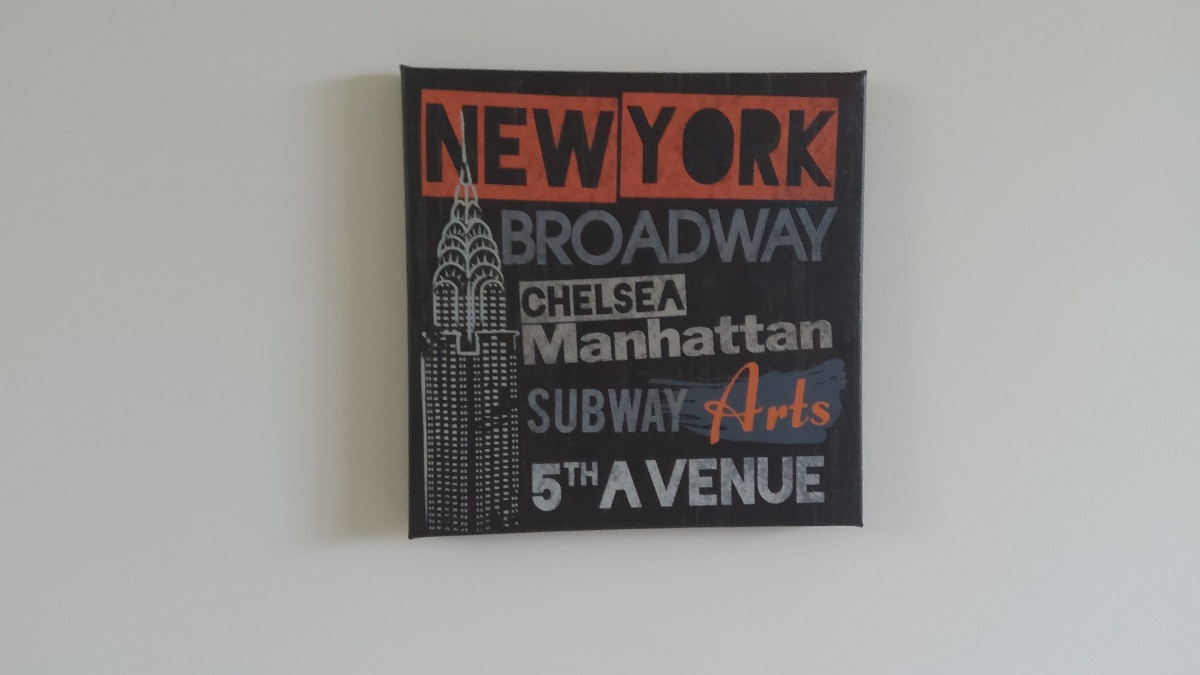poster: (399, 62, 866, 534)
